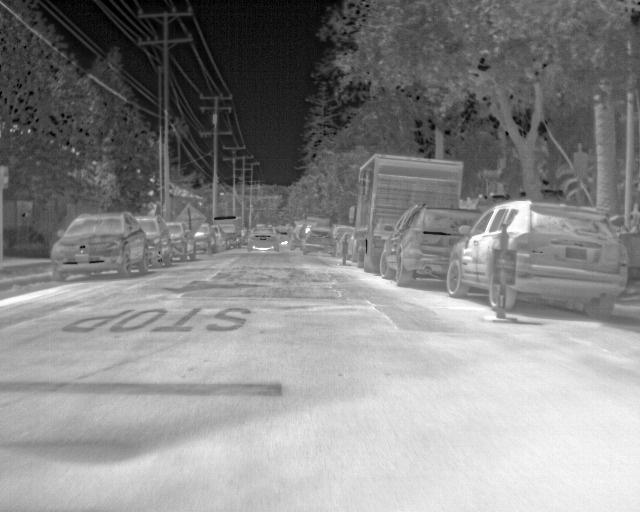bicycle: (446, 198, 630, 317), (379, 205, 489, 286), (51, 210, 148, 284), (133, 214, 171, 267), (161, 218, 196, 264), (246, 225, 281, 252), (299, 229, 333, 255), (193, 224, 216, 255)
